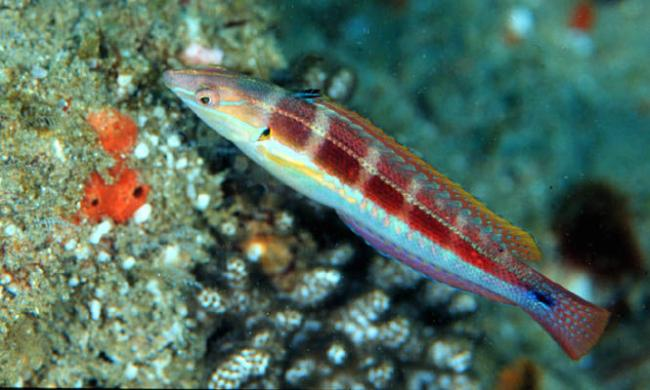fish: (165, 69, 610, 361)
